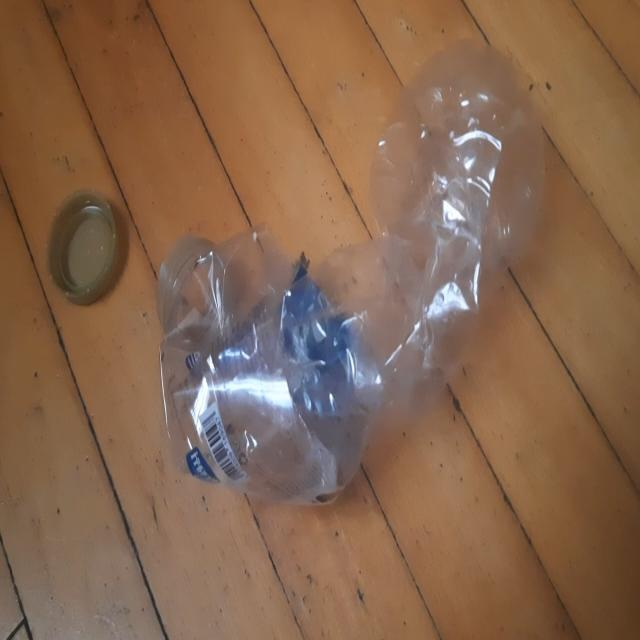Plastic: (157, 37, 545, 506)
